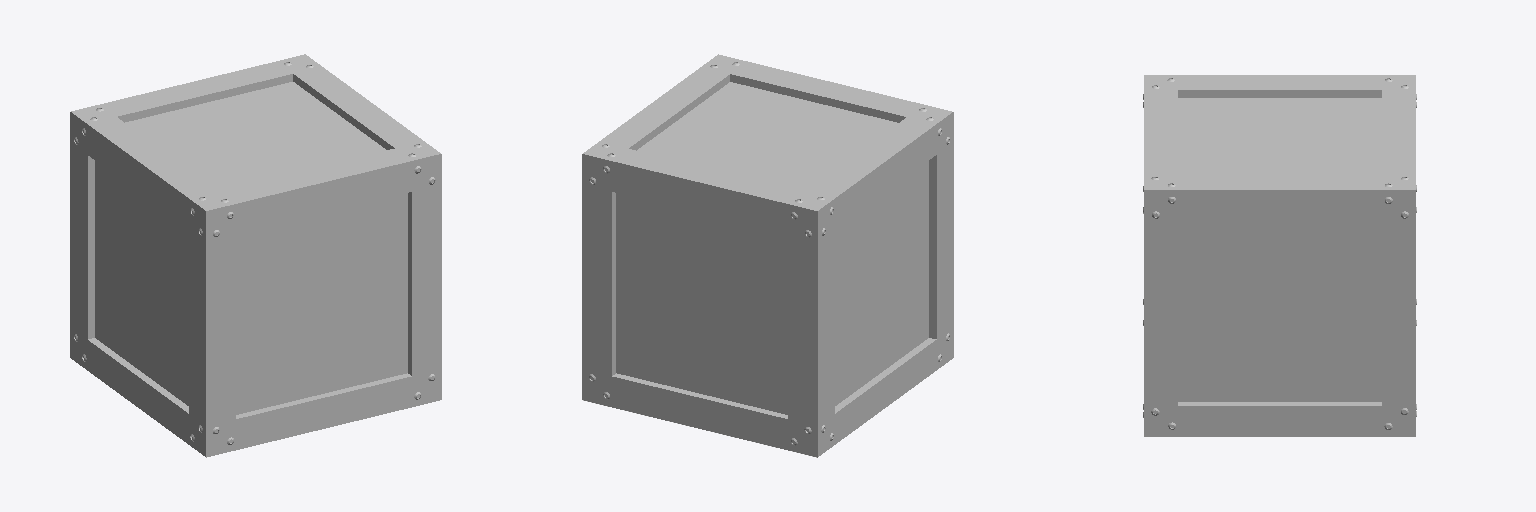
Rendered from DefaultWall.obj.
The picture shows the model from 3 angles: view 1: azimuth 30°, elevation 25°; view 2: azimuth 150°, elevation 25°; view 3: azimuth 270°, elevation 25°; orthographic projection.
Visible parts, largest first — view 1: Component_2_001, Component_2_003, Component_2_004; view 2: Component_2_002, Component_2_003, Component_2_004; view 3: Component_2_006, Component_2_004.
Part boxes in pixels (bbox=[...]): Component_2_001: bbox=[206, 154, 441, 457]; Component_2_003: bbox=[70, 112, 205, 456]; Component_2_004: bbox=[71, 54, 440, 210]; Component_2_002: bbox=[582, 154, 817, 457]; Component_2_003: bbox=[818, 112, 953, 456]; Component_2_004: bbox=[583, 54, 951, 210]; Component_2_006: bbox=[1144, 190, 1415, 436]; Component_2_004: bbox=[1144, 75, 1415, 189].
Bounding box in the file's own units: 100 × 100 × 100.